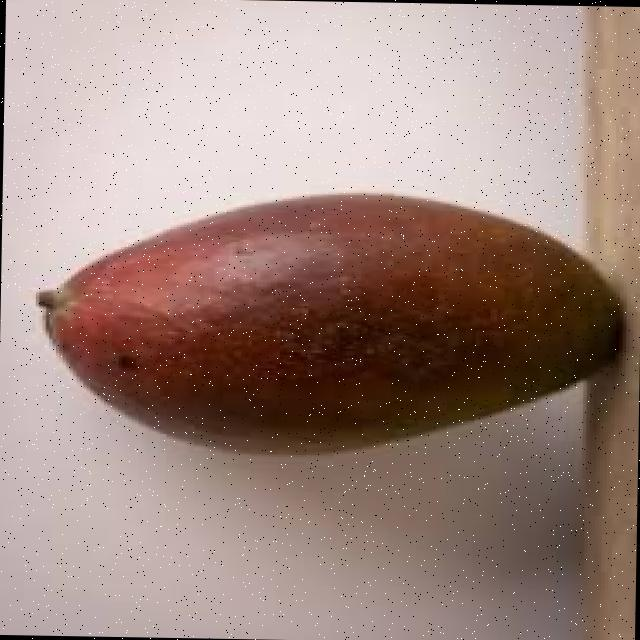mango: (35, 189, 623, 457)
